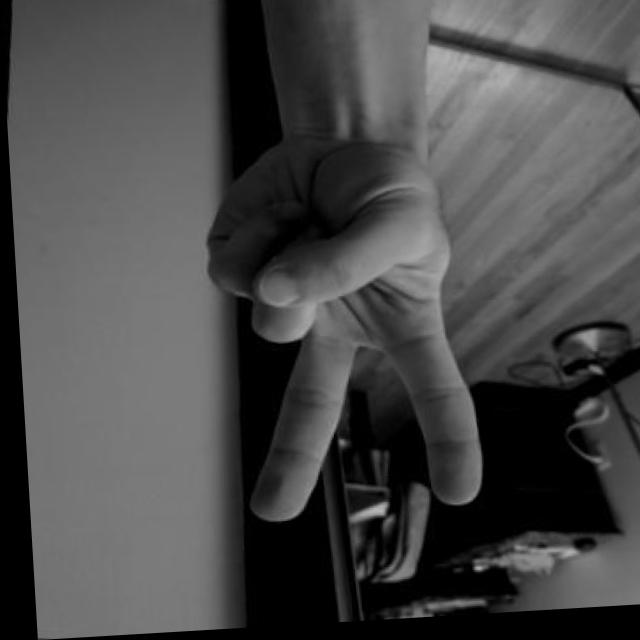V: (162, 112, 518, 553)
